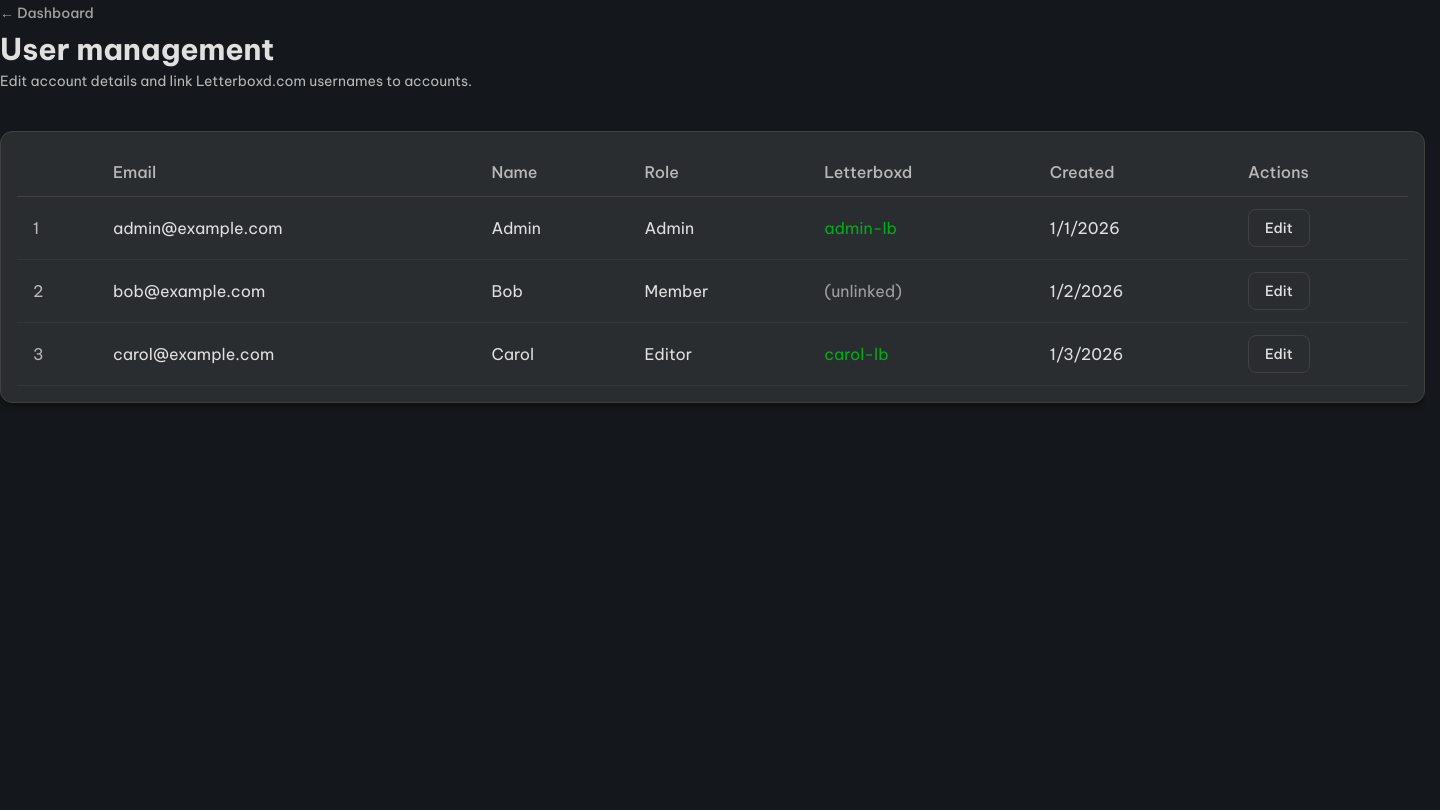
Test: UserAdmin — edit flow › disables the role dropdown when editing your own account
Expected: the text "admin@example.com" is shown, [97, 196, 475, 260]
Click the button "Edit" in the row of "admin@example.com".
click(1279, 228)  # box [1248, 209, 1310, 247]
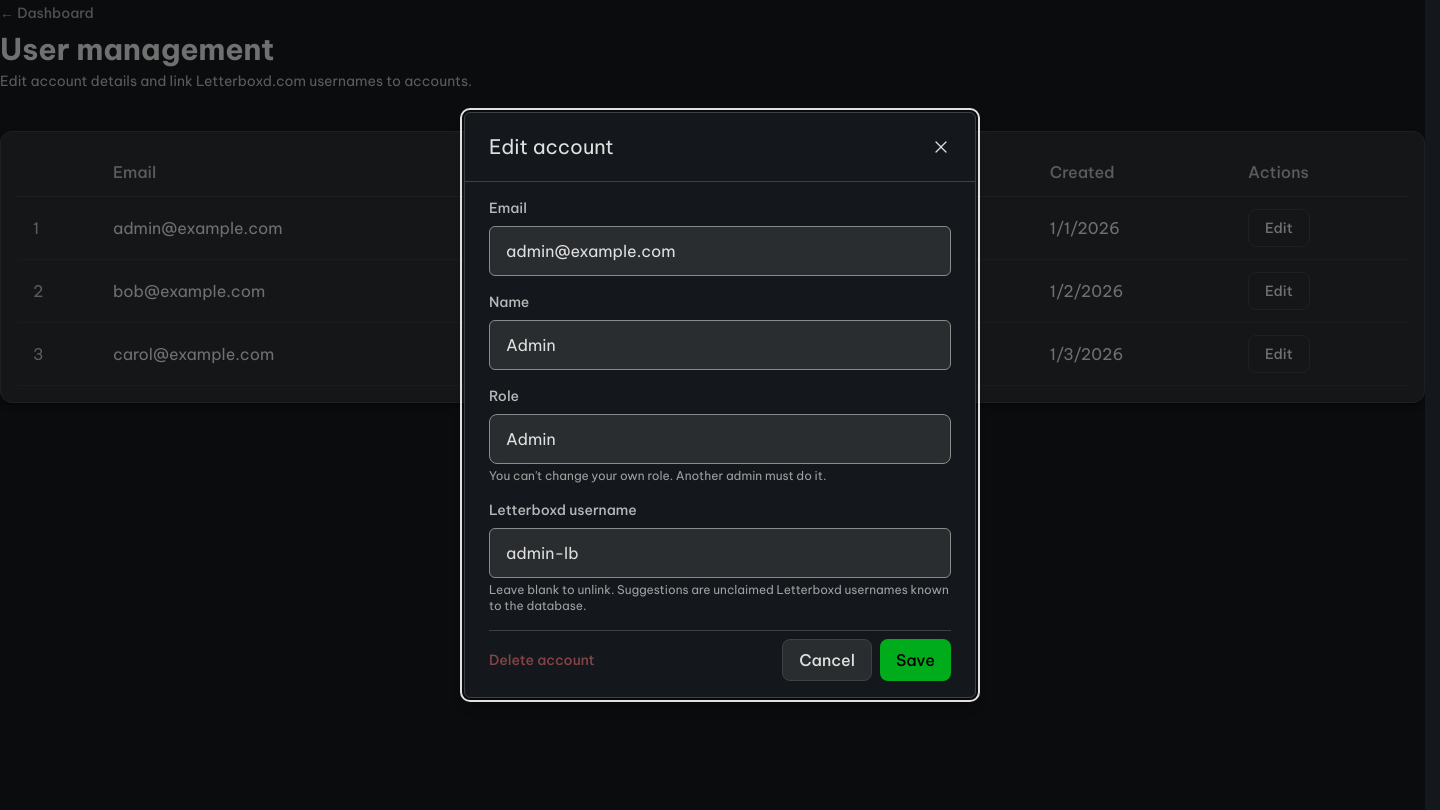
Result: the dropdown labelled "Role" is disabled at [489, 414, 951, 464]
Result: the text "You can't change your own role. Another admin must do it." is shown at [489, 468, 826, 483]
